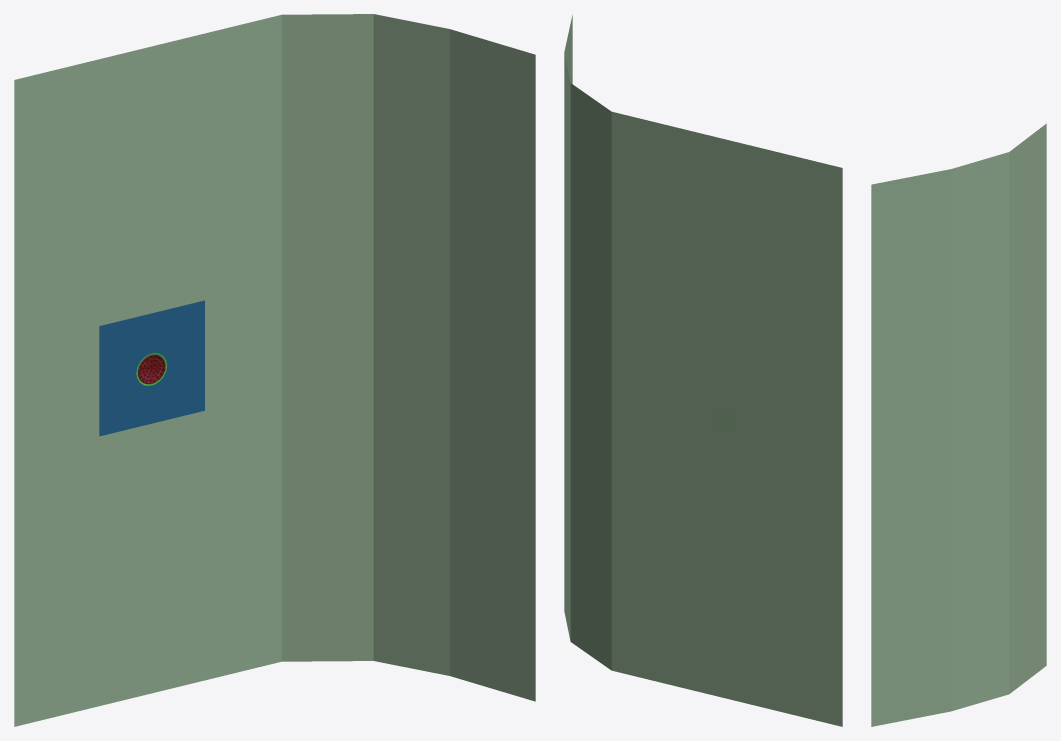
The model's file is Pizza_3.gltf.
3 renders of one model, left to right at view 1: azimuth 30°, elevation 25°; view 2: azimuth 150°, elevation 25°; view 3: azimuth 270°, elevation 25°, orthographic. The views are drawn at different scales.
Visible parts, largest first — view 1: Plane01, Plane02; view 2: Plane01; view 3: Plane01.
Boxes of the visible parts, left/top/right/bottom form: Plane01: left=14, top=14, right=535, bottom=726; Plane02: left=99, top=300, right=204, bottom=436; Plane01: left=564, top=15, right=842, bottom=726; Plane01: left=871, top=123, right=1046, bottom=726.
Size of the model in its own units: 396 by 586 by 172.
